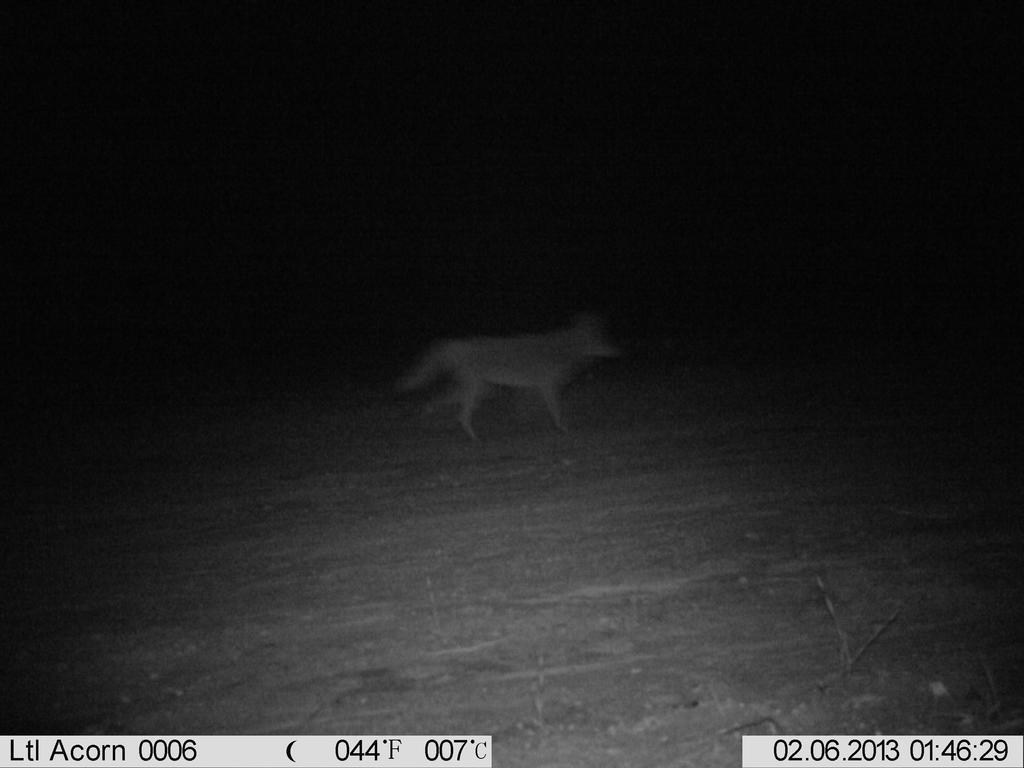coyote: (395, 303, 624, 445)
